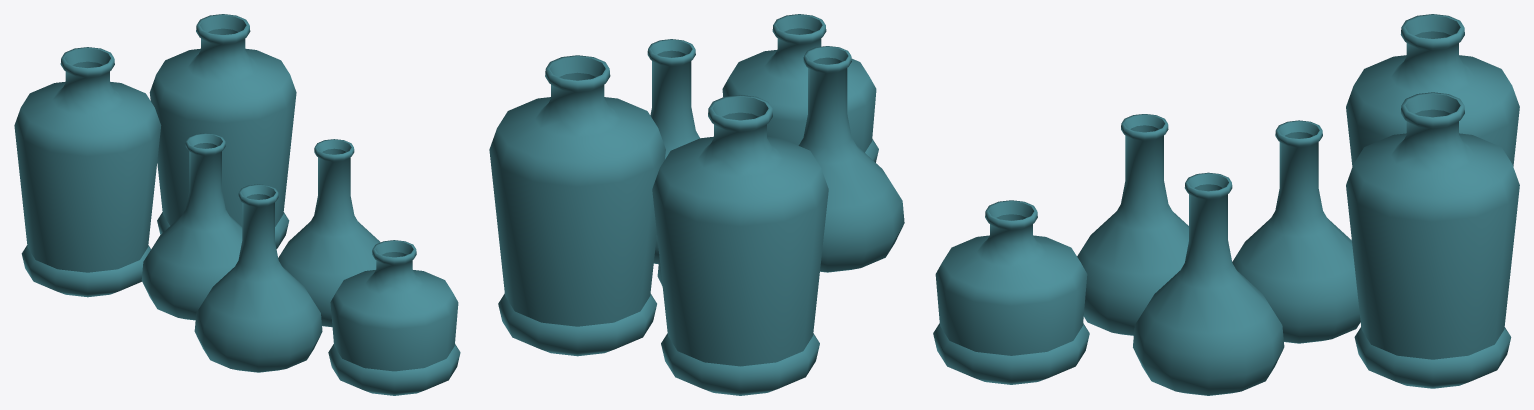
File: GB_091_bottles.glb
The picture shows the model from 3 angles, left to right: view 1: azimuth 30°, elevation 25°; view 2: azimuth 150°, elevation 25°; view 3: azimuth 270°, elevation 25°; orthographic projection. The views are drawn at different scales.
Parts seen in each view (by area): view 1: BottlesMany; view 2: BottlesMany; view 3: BottlesMany.
Boxes of the visible parts, x1,y1,x2,y2 form: BottlesMany: (14, 14, 460, 395); BottlesMany: (489, 14, 904, 395); BottlesMany: (933, 14, 1519, 395).
Bounding box in the file's own units: 0.6711 × 0.5224 × 1.06.
